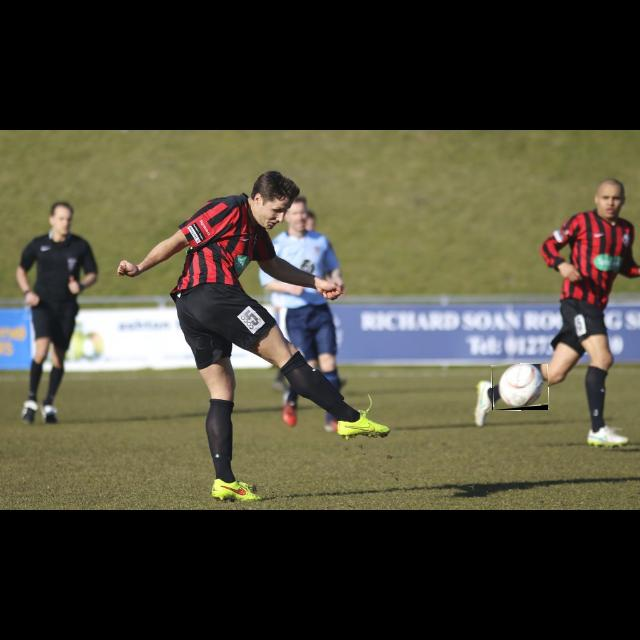Football: (492, 364, 548, 410)
